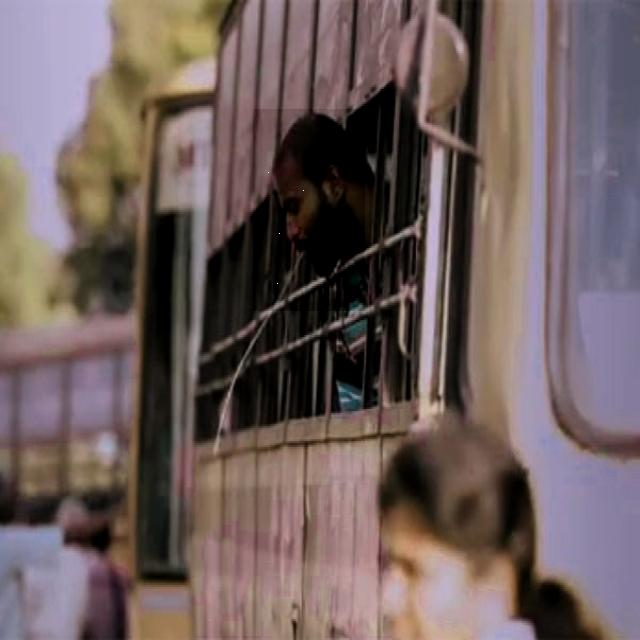Spitting: (253, 109, 365, 311)
